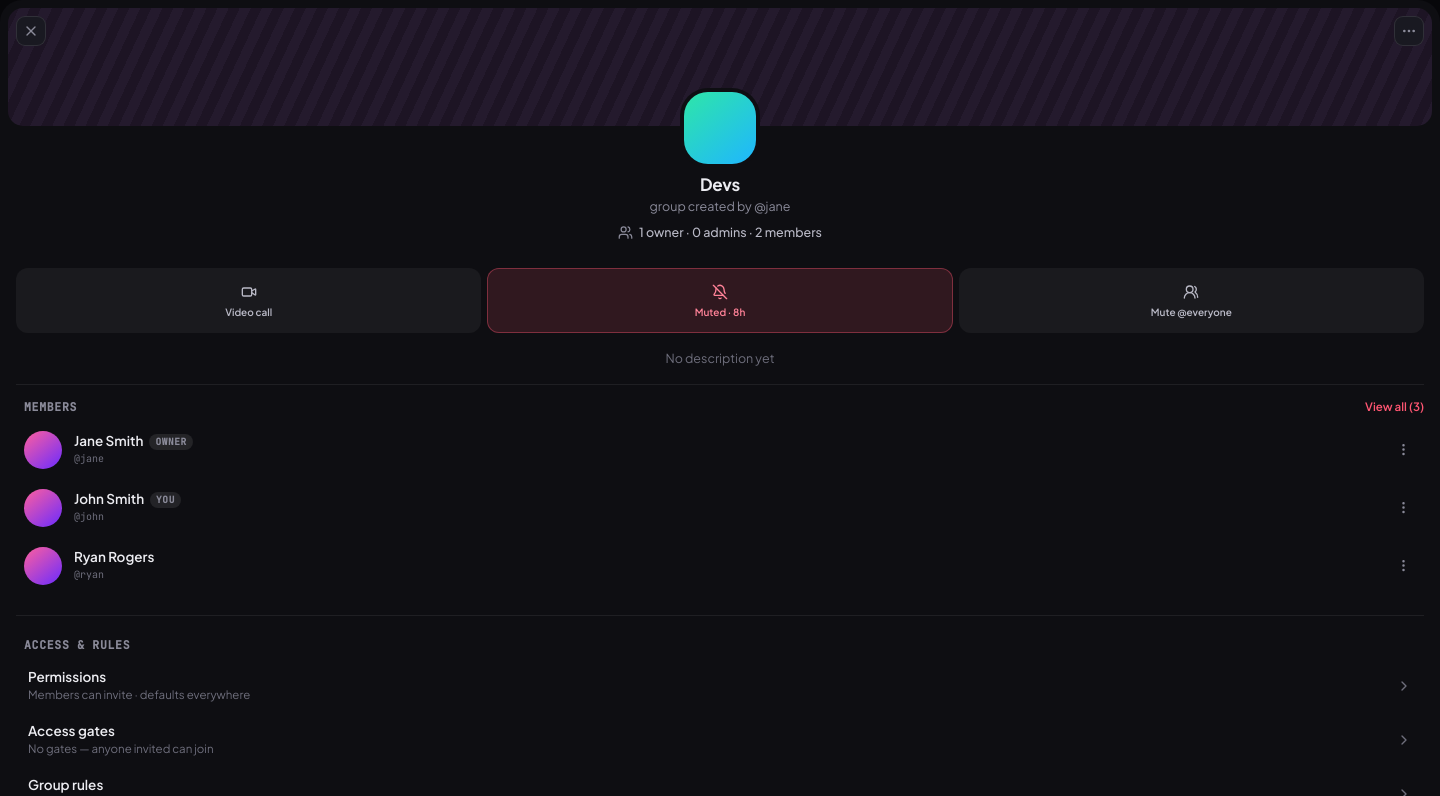
Test: GroupPanel mute › a rejected unmute falls back to the host mute and shows an error
Click the button with class "tile" showing "Muted · 8h".
click(720, 300)  # box top-left (487, 268), bottom-right (953, 333)
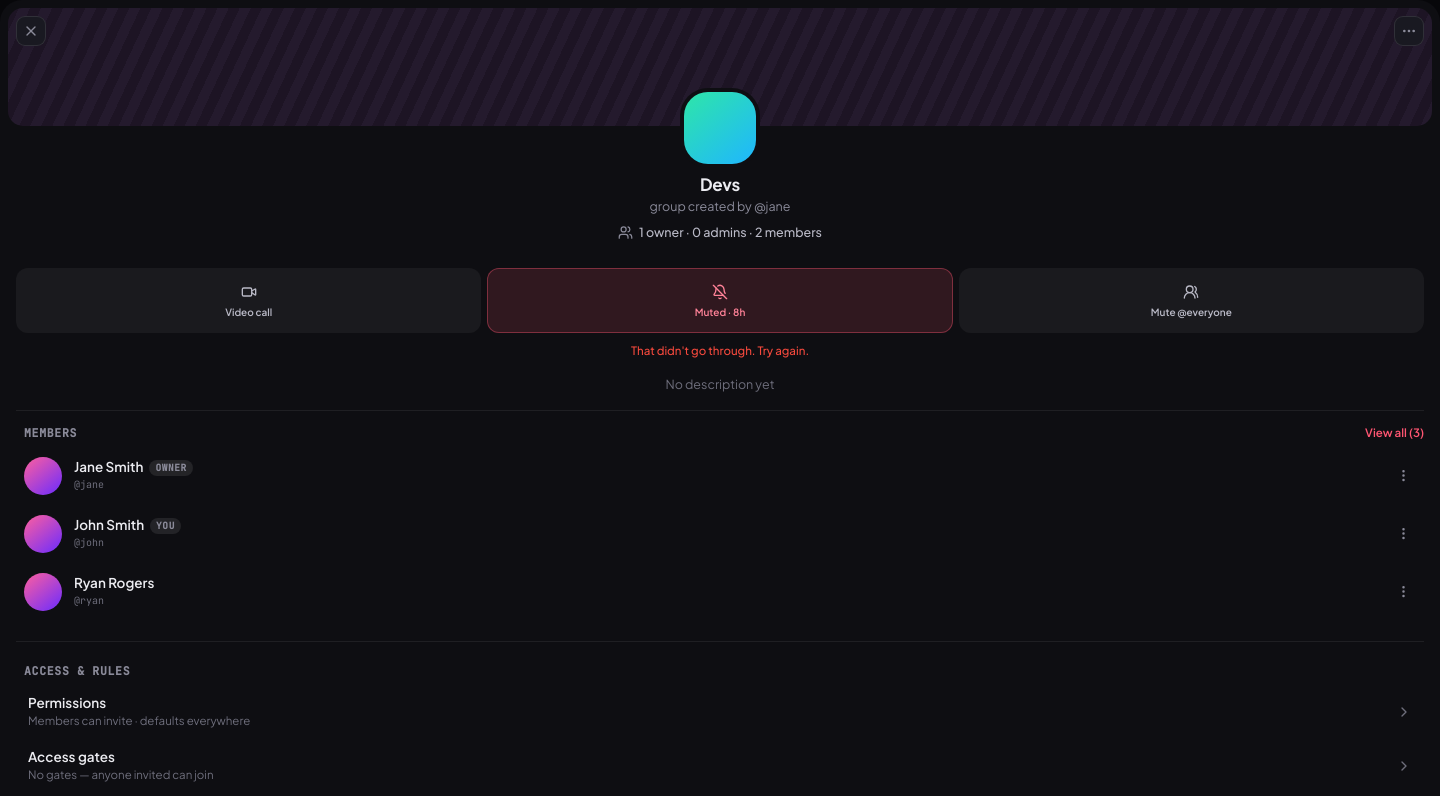
Expected: the text "Muted · 8h" is shown, top-left (695, 307), bottom-right (745, 317)
Result: the message "That didn't go through. Try again." is shown at top-left (631, 343), bottom-right (809, 359)
